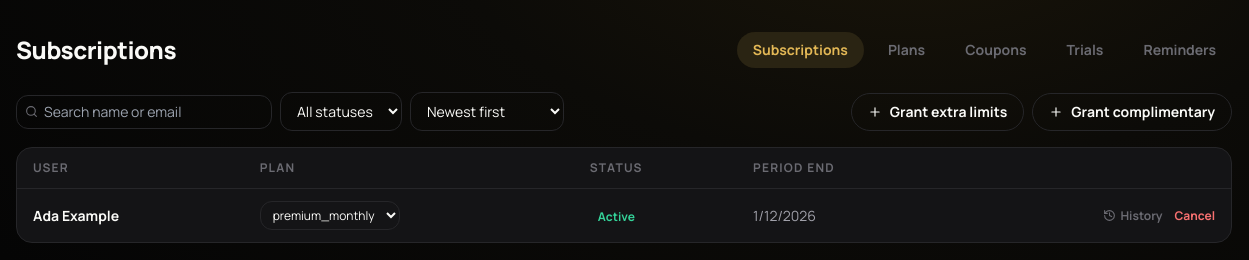
Subscriptions (admin) › search box shows an autocomplete dropdown of matching users, and picking one filters by exact userId
Expected: the table with test id "admin-subscriptions-table" is shown, [17,148,1231,242]
Type "ada" into the field with test id "admin-subscriptions-search-input" at (154,112), box [44,102,263,122]
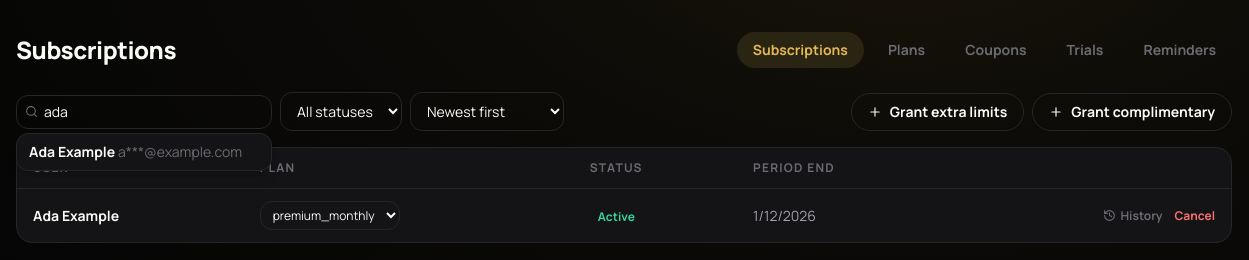
Result: the button with test id "admin-subscriptions-search-option-u1" is shown
Press the mouse on the button with test id "admin-subscriptions-search-option-u1" at (144,152), box [17,134,271,170]
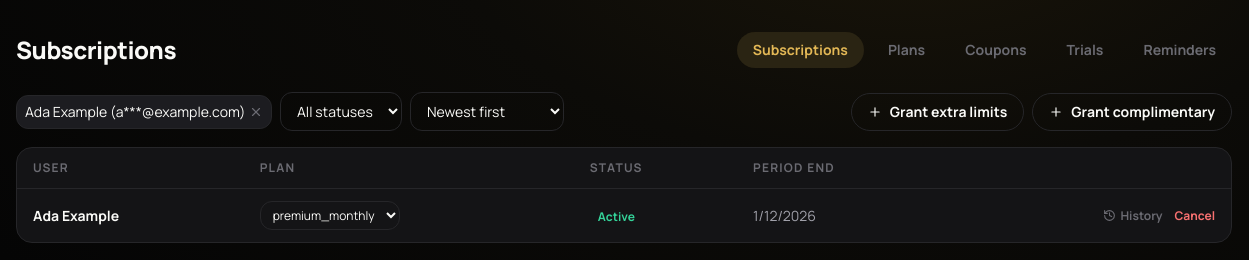
Result: the element with test id "admin-subscriptions-search-selected" reads "Ada Example (a***@example.com)" at [25,102,246,120]
